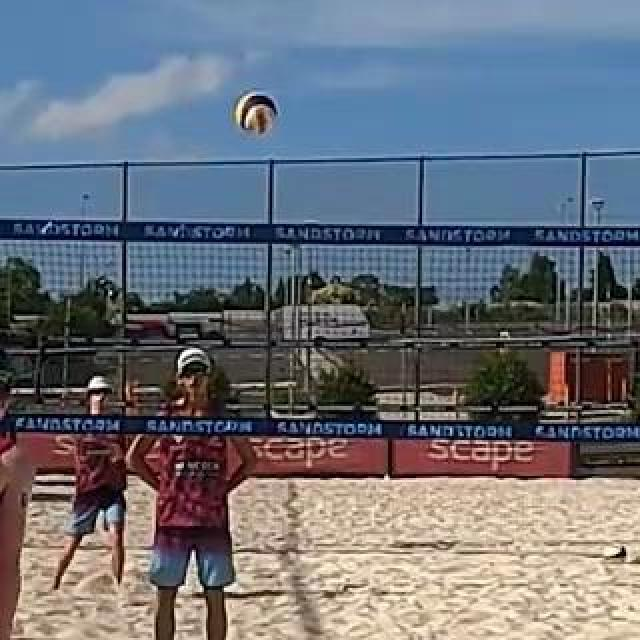volleyball: (234, 94, 278, 136), (602, 541, 628, 567)
